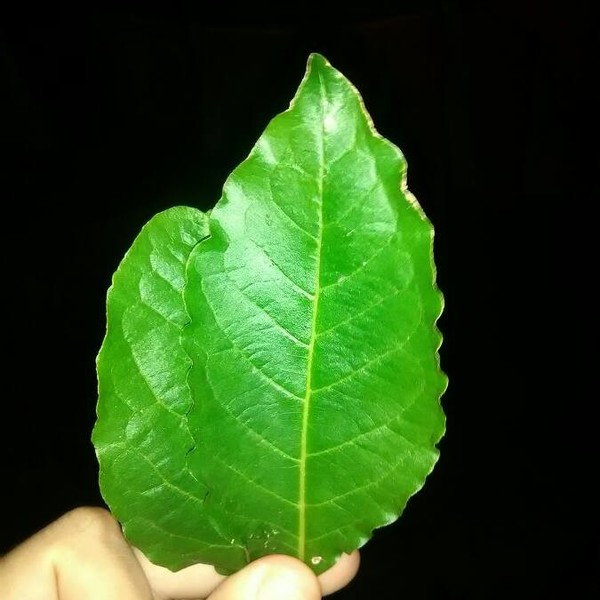obstacle: (70, 50, 453, 578)
